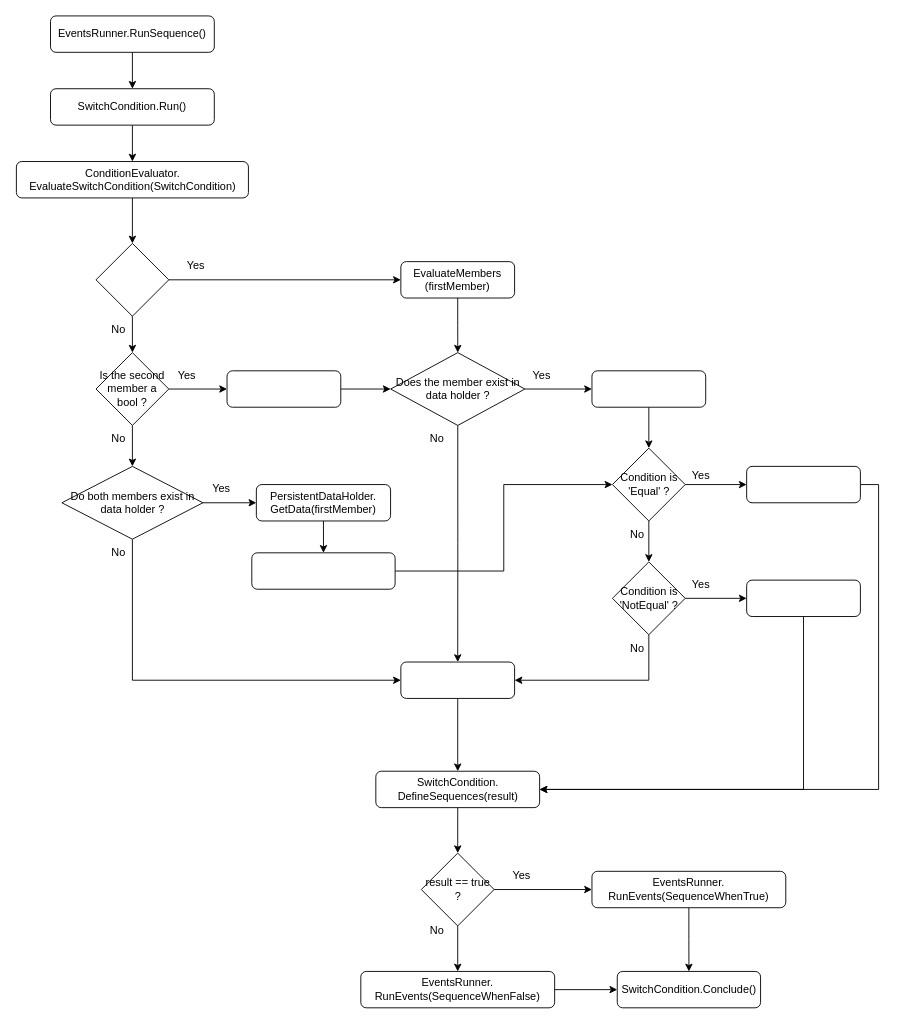
This 902x1024 diagram has some shape labels left out. The centre of each missing label's shape, as x and y in pixels:
"EvaluateMembers (secondMember)" goes at point (283, 388).
"Is the first member a bool ?" goes at point (132, 279).
"PersistentDataHolder. GetData(member)" goes at point (648, 388).
"PersistentDataHolder. GetData(secondMember)" goes at point (323, 570).
"return false" goes at point (457, 679).
"return firstMember != secondMember" goes at point (803, 598).
"return firstMember == secondMember" goes at point (803, 484).
